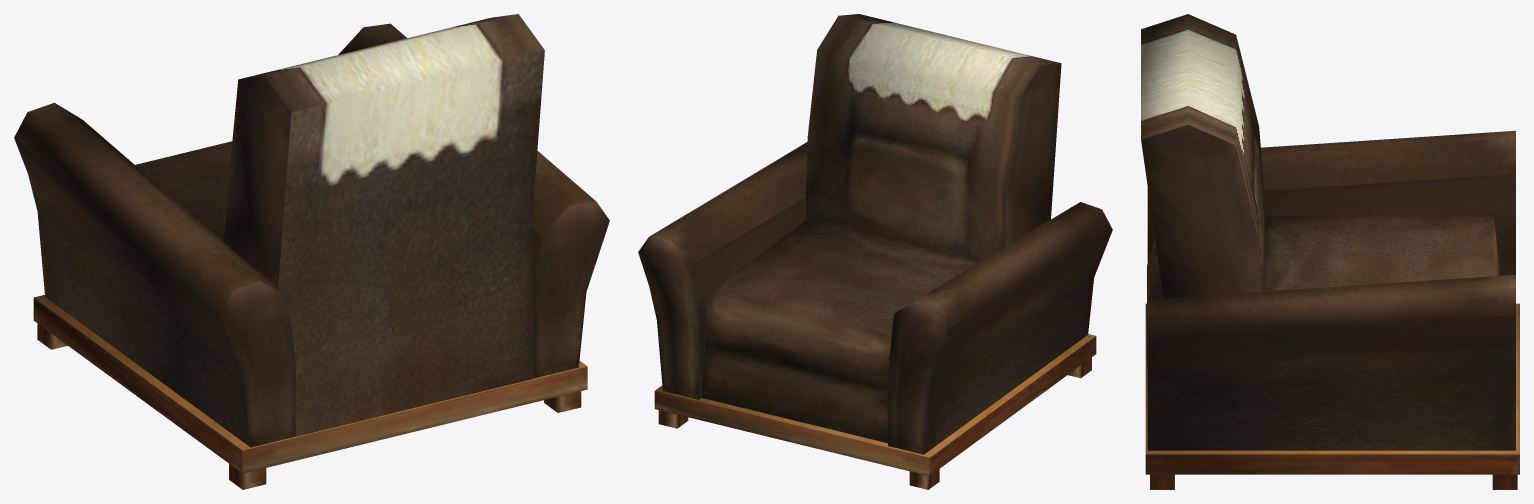
The model's file is c_SWIchair04a.glb.
3 renders of one model, left to right at view 1: azimuth 30°, elevation 25°; view 2: azimuth 150°, elevation 25°; view 3: azimuth 270°, elevation 25°, orthographic. The views are drawn at different scales.
Parts seen in each view (by area): view 1: c_SWIchair04a; view 2: c_SWIchair04a; view 3: c_SWIchair04a.
Part boxes in pixels (x1,y1,x2,y2): c_SWIchair04a: [14, 14, 609, 489]; c_SWIchair04a: [638, 14, 1112, 489]; c_SWIchair04a: [1141, 14, 1519, 489].
Size of the model in its own units: 1 by 0.9533 by 0.9431.
Materials: 1 (1 with a texture image).
